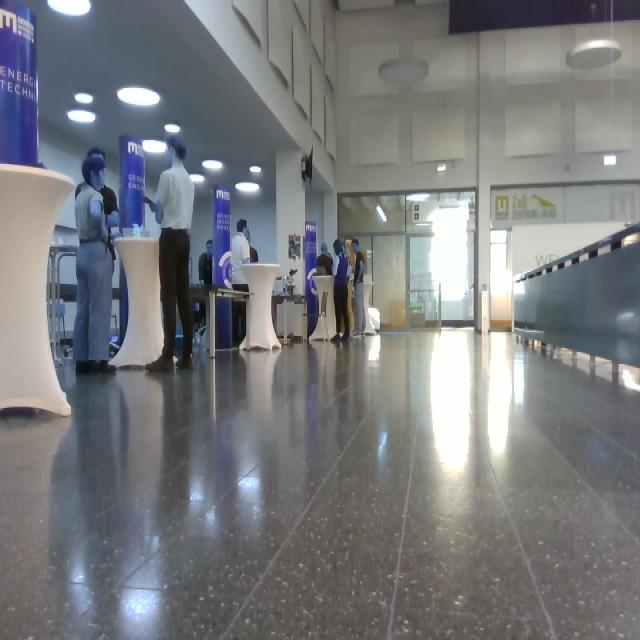door: (373, 233, 407, 329), (489, 228, 513, 332)
light bulb: (566, 1, 622, 70), (566, 39, 622, 71), (379, 58, 429, 85), (117, 86, 161, 108), (47, 1, 92, 17), (67, 109, 96, 124), (142, 140, 167, 154), (235, 182, 260, 193), (75, 92, 94, 105), (202, 160, 223, 170), (376, 205, 387, 222), (165, 124, 181, 133), (190, 173, 205, 182), (249, 165, 262, 173)
person: (142, 134, 196, 373), (74, 155, 118, 375), (231, 219, 251, 343), (332, 238, 351, 340), (198, 240, 213, 334)
pillar: (1, 162, 76, 417)
staircase: (512, 221, 640, 378)
tiled floor: (1, 326, 639, 640)
